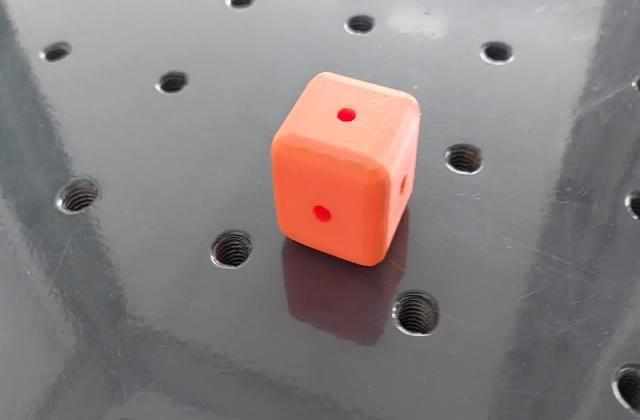cube: (268, 68, 426, 270)
